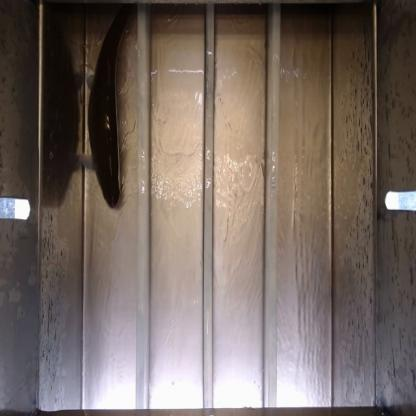pezw: (87, 24, 135, 209)
